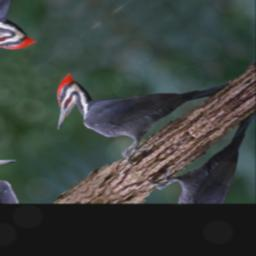Woodpecker: (29, 4, 248, 182)
